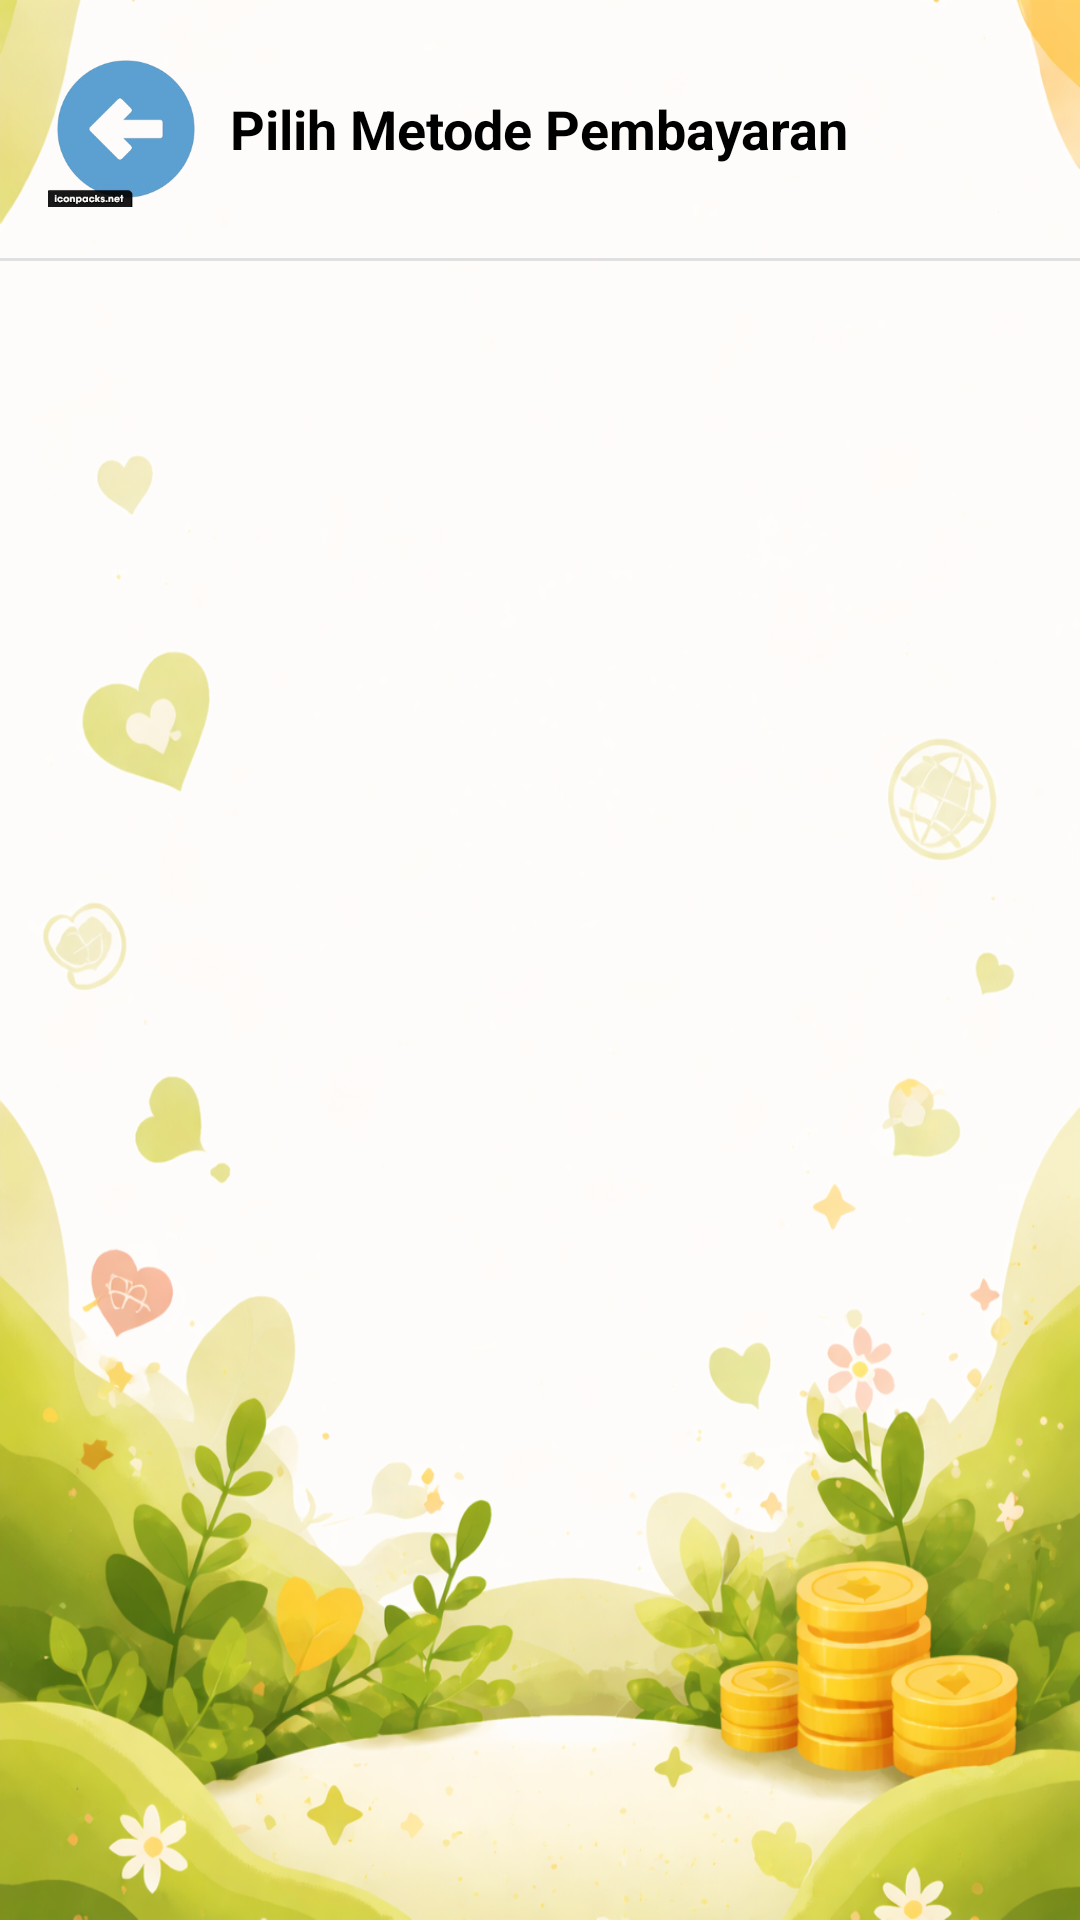

Where to tap for icons on this 1080px×1920px app screen, as point (x, y):
back: point (121, 133)
